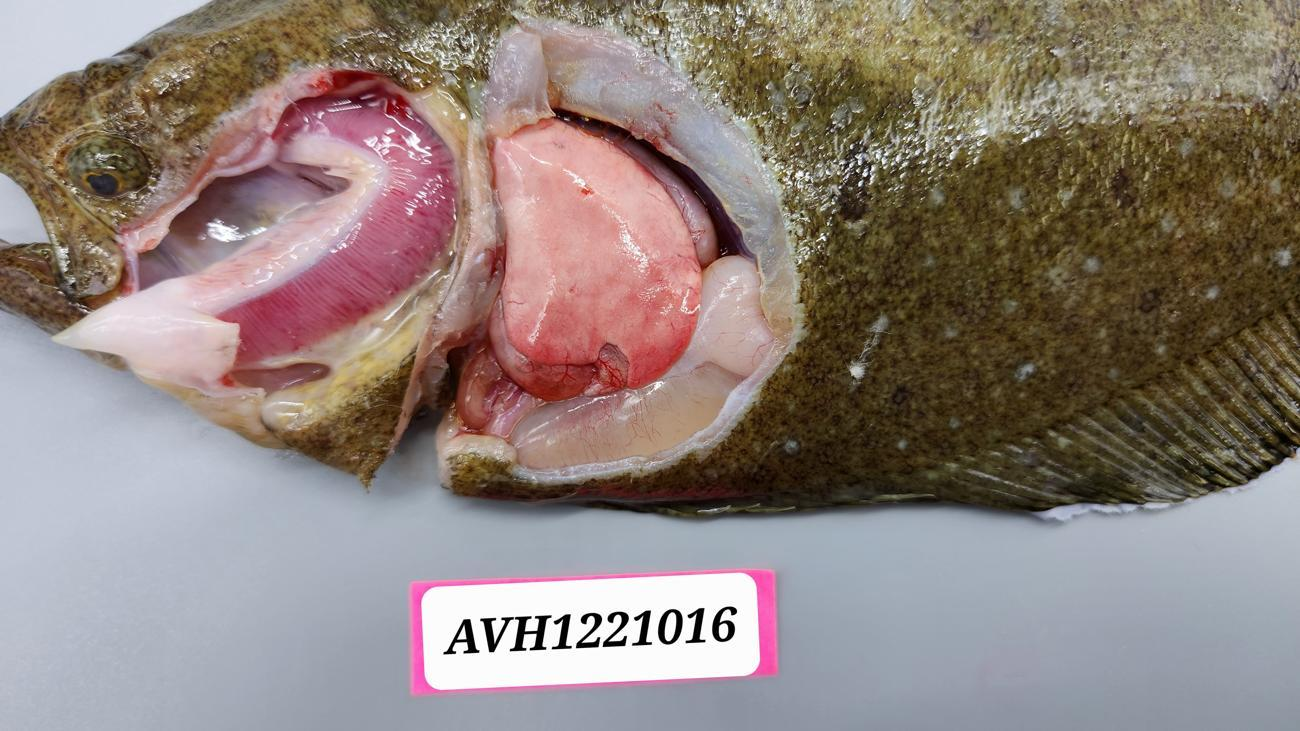VIGIP: (223, 94, 447, 362)
VILIC: (522, 304, 692, 376)
VILII: (515, 139, 690, 344)
